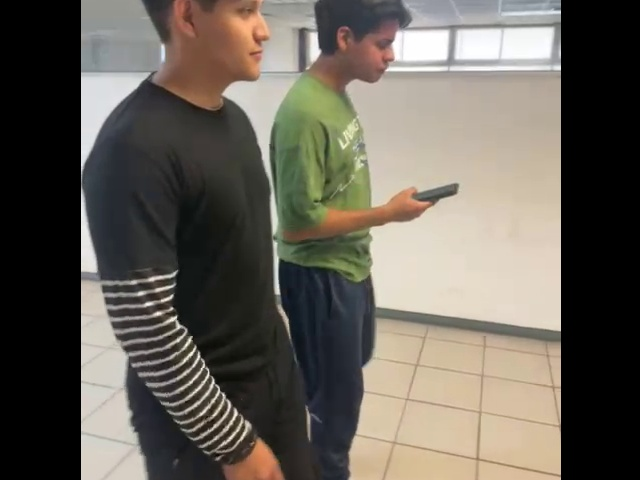mixto2: (410, 179, 465, 205)
